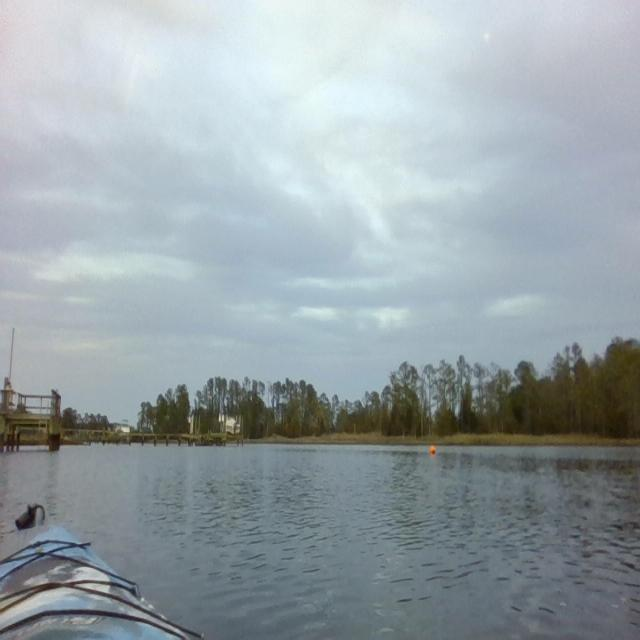Buoy: (429, 441, 436, 457)
